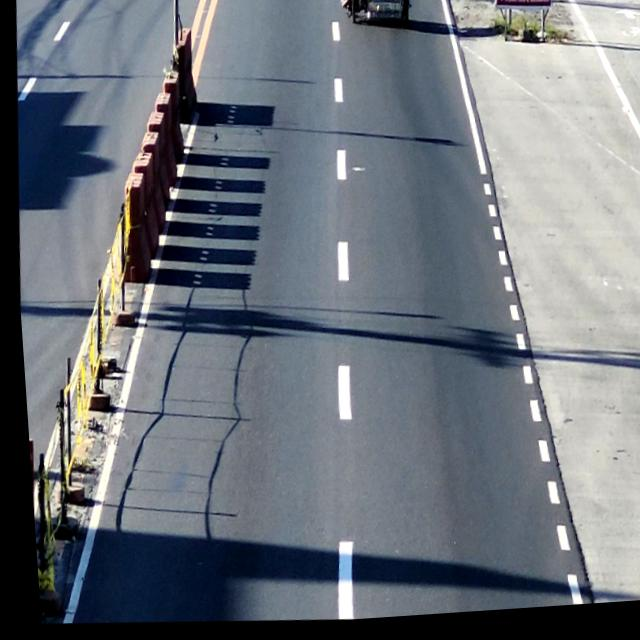Tricycle: (336, 0, 414, 35)
